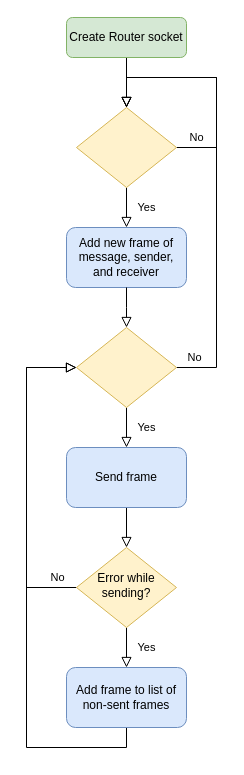
Image size: 244x775. Some labels were removed from this diagram. The centre of each missing label's shape, as x and y in pixels:
"Frames to send?" belongs at (x=126, y=367).
"Message received?" belongs at (x=126, y=147).
